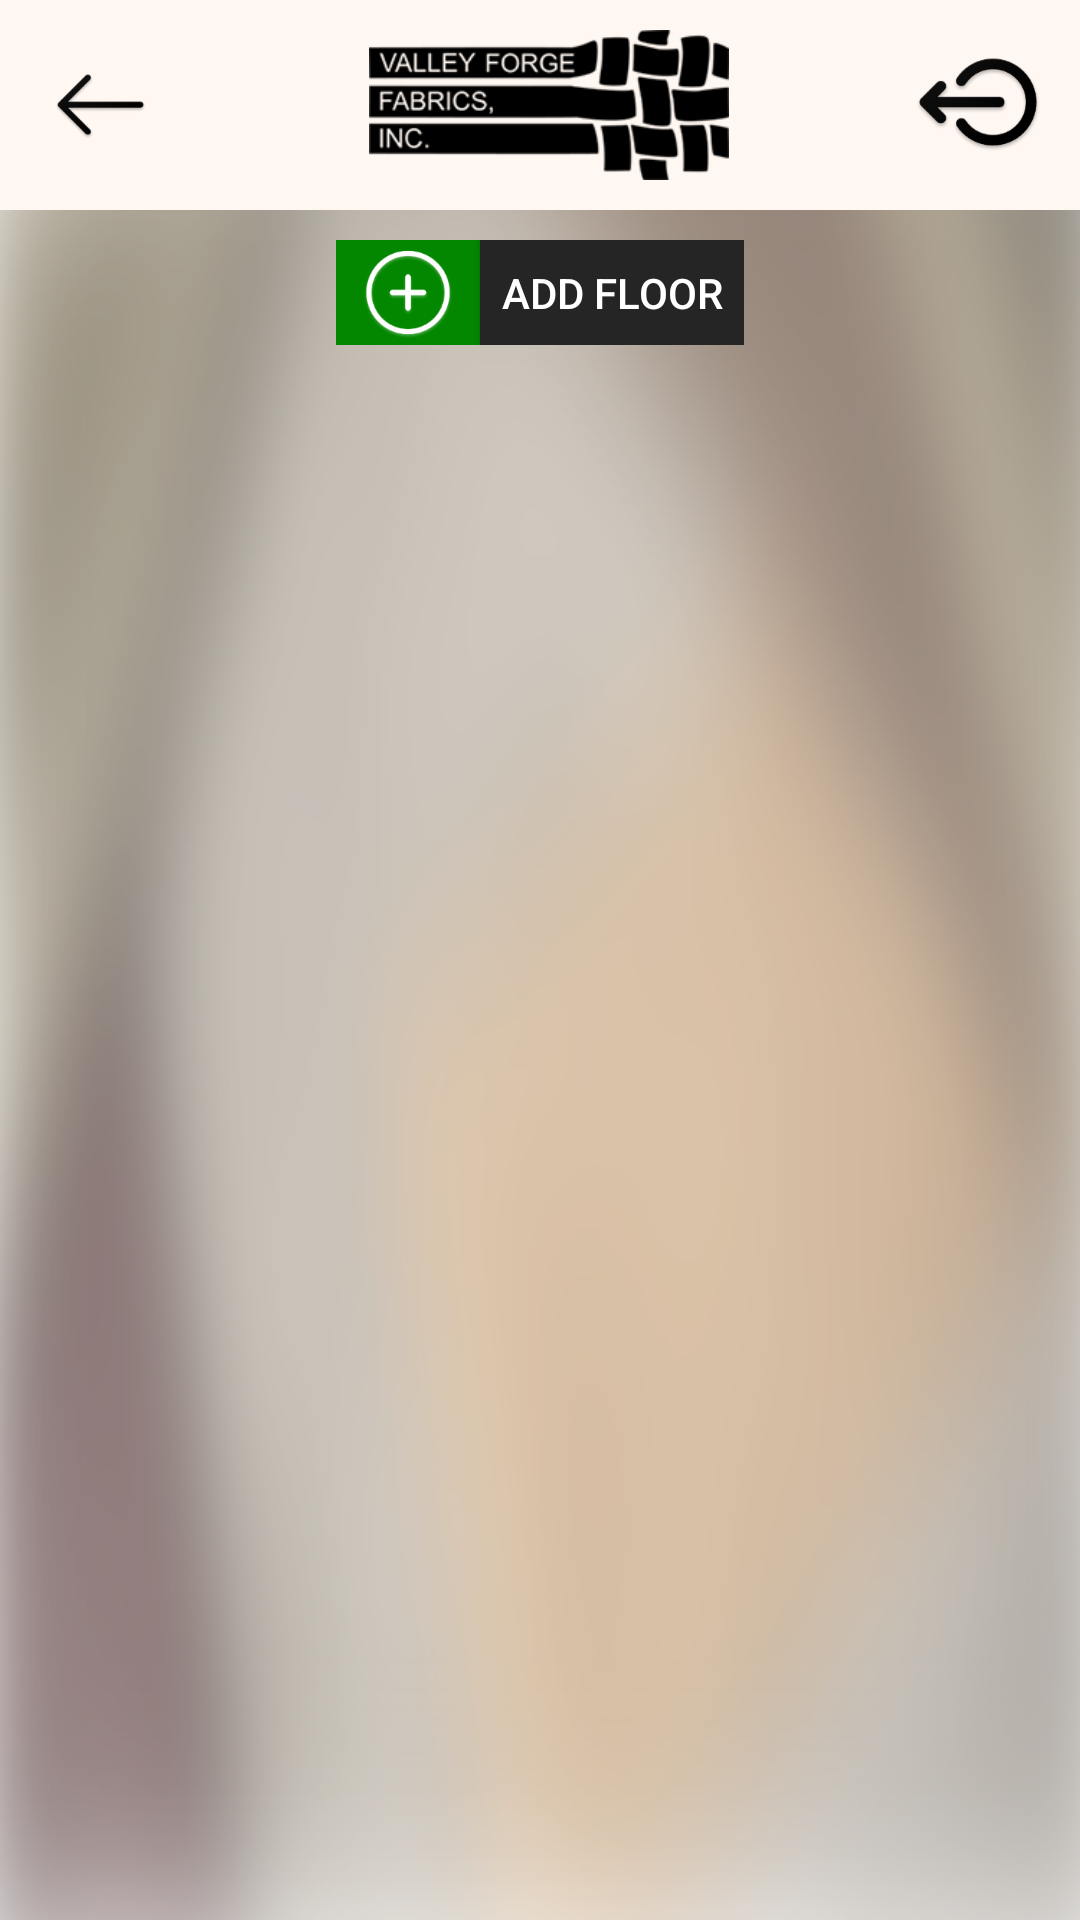

Icons on this 1080 x 1920 Android screen, each with its box as bbox(x1, y1, x2, y2):
back: bbox(57, 74, 144, 137)
